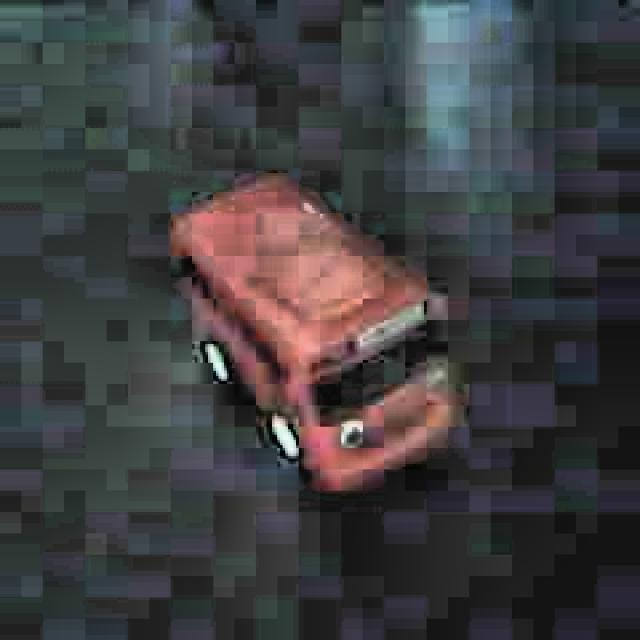bus: (154, 152, 468, 516)
